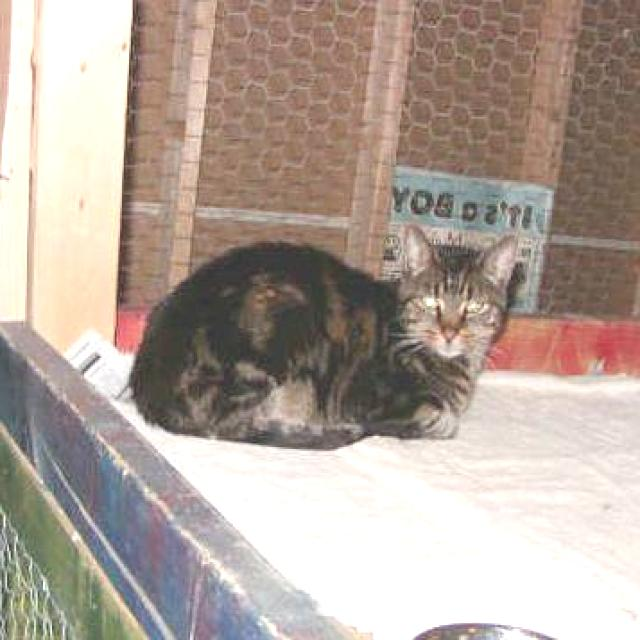Kucing: (88, 114, 582, 478)
